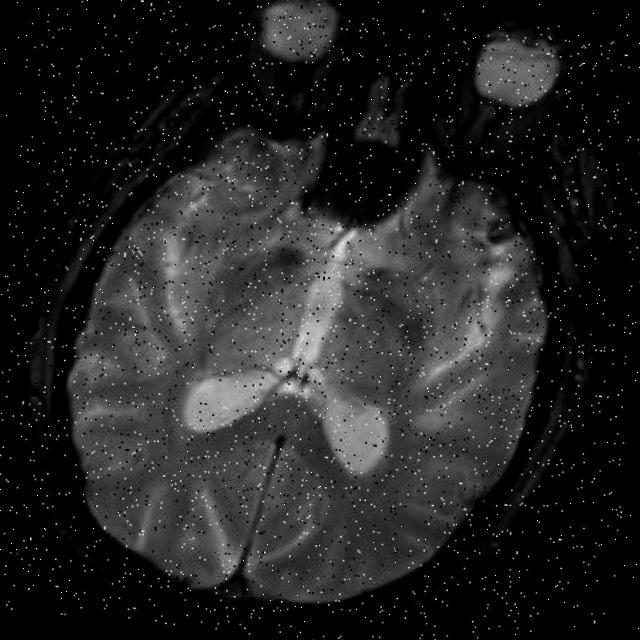CN: (340, 238, 454, 359), (221, 215, 336, 312)
